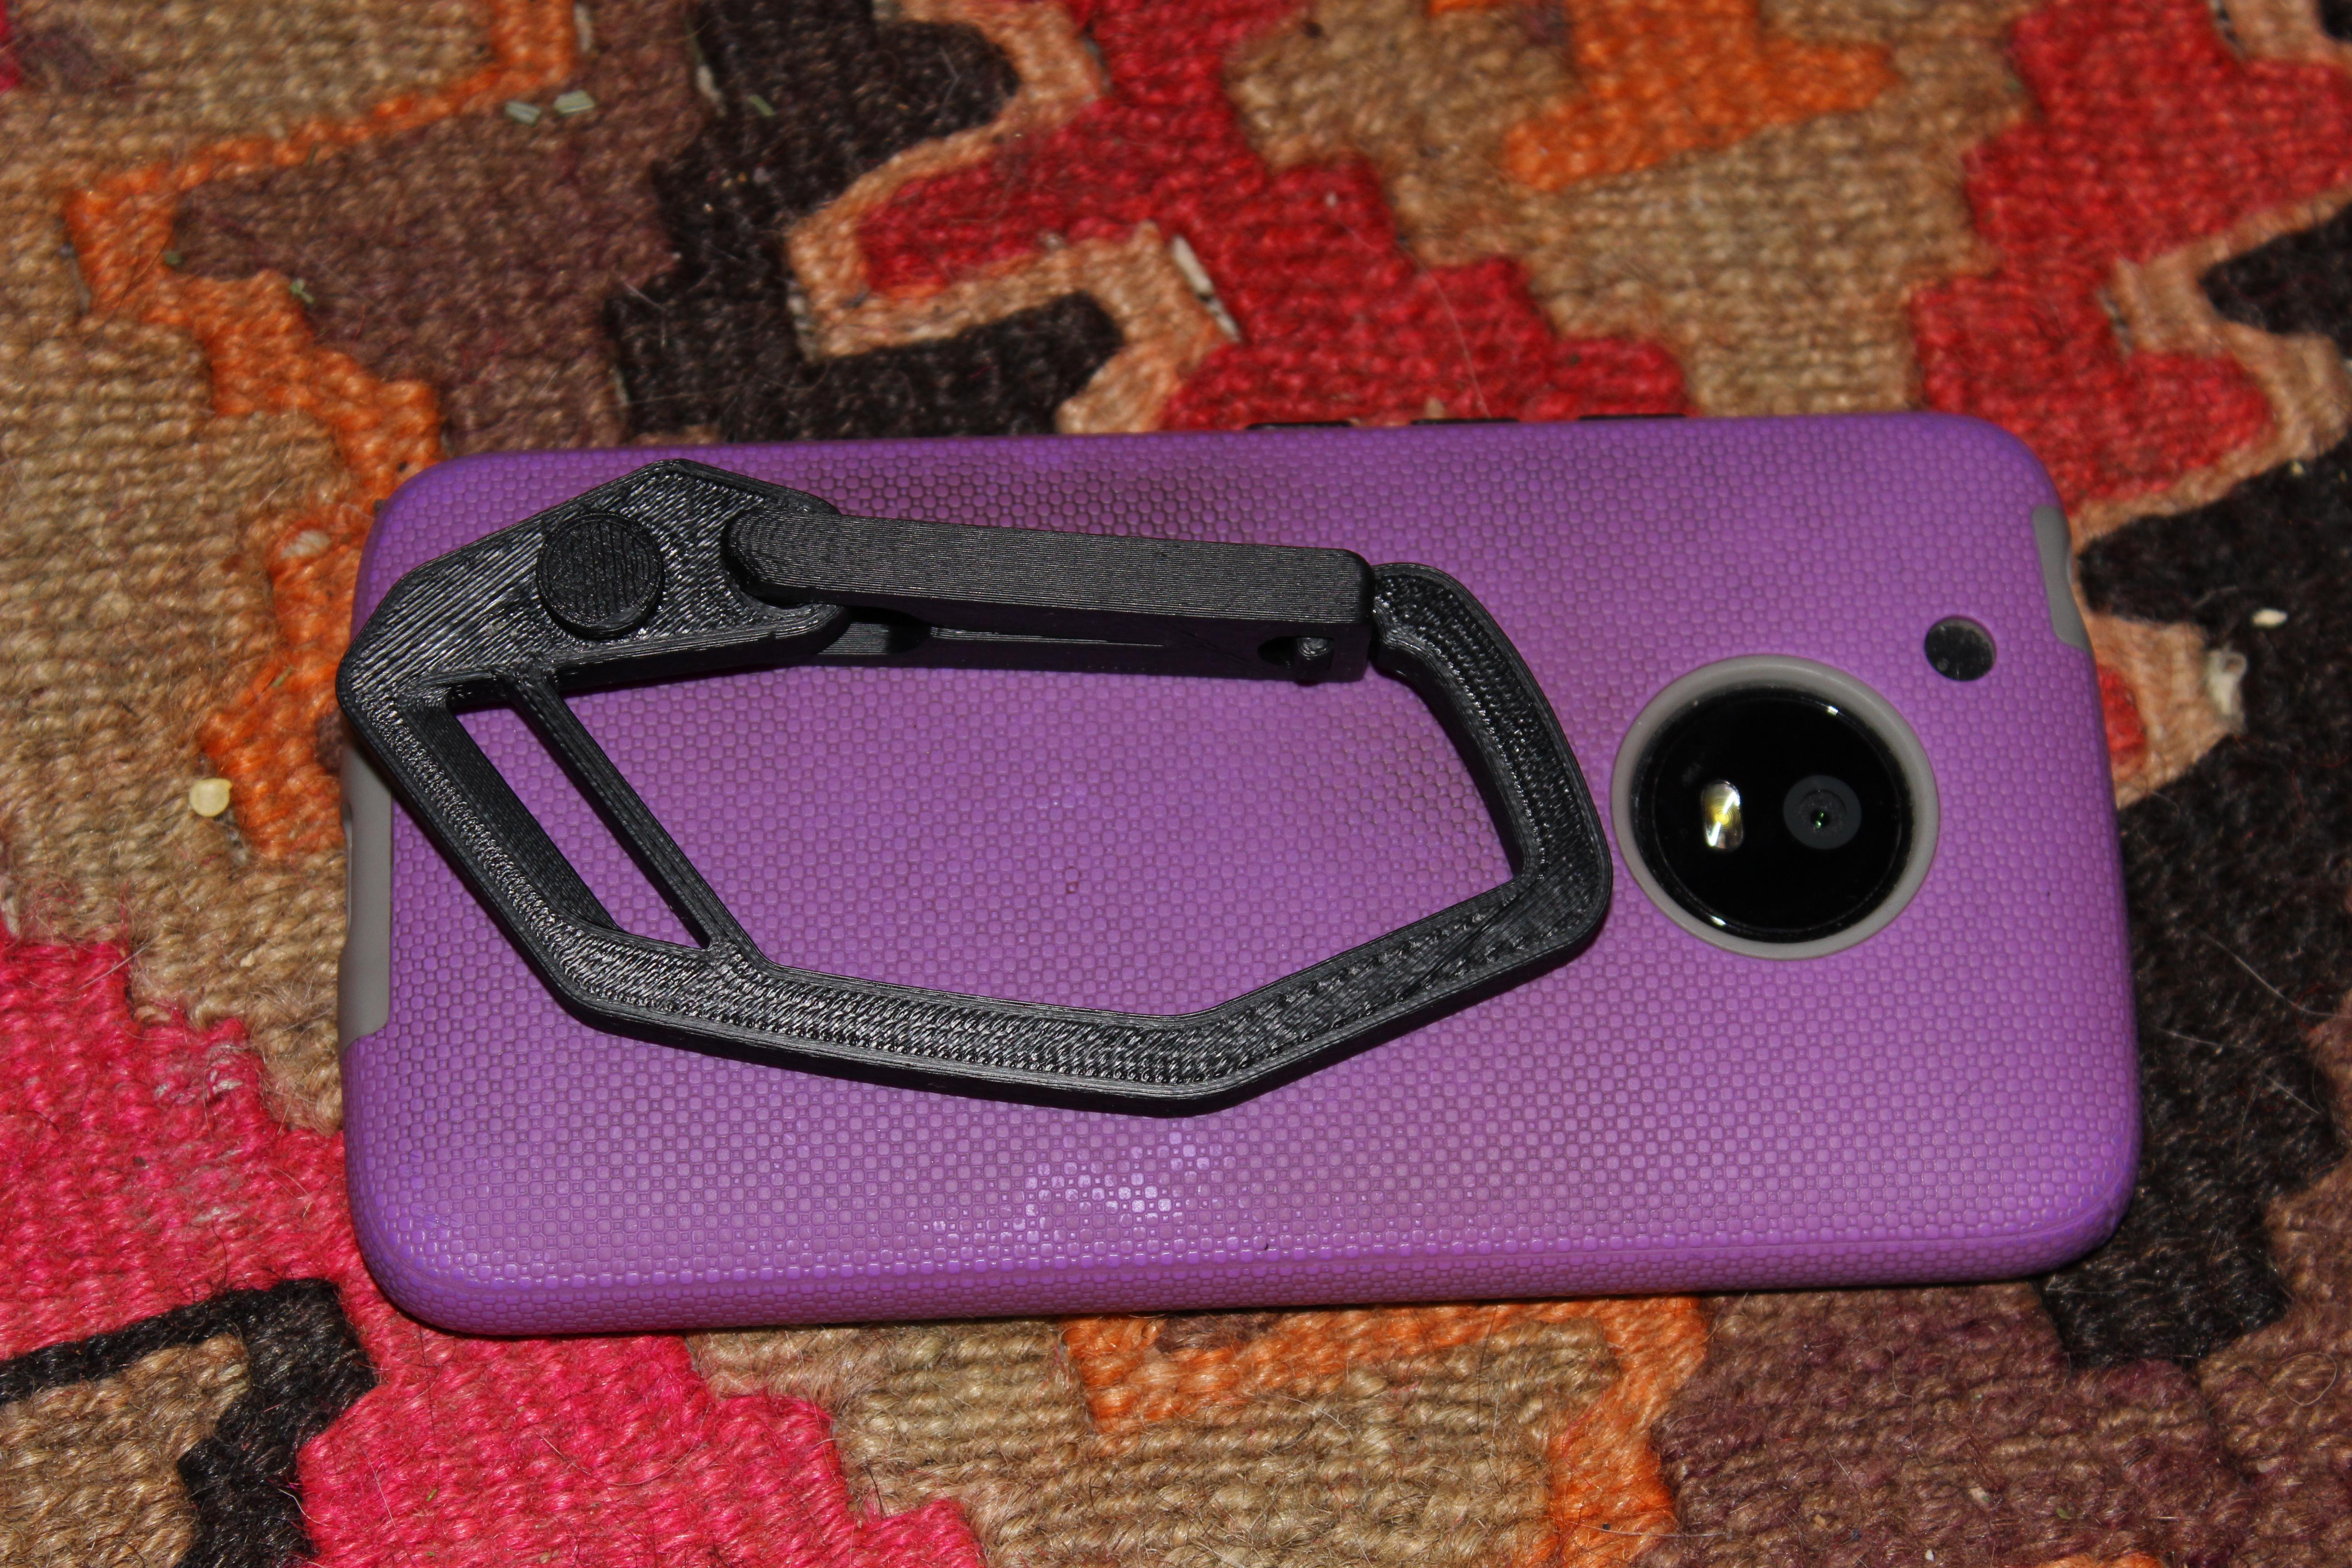carabiner: (304, 429, 1671, 1157)
